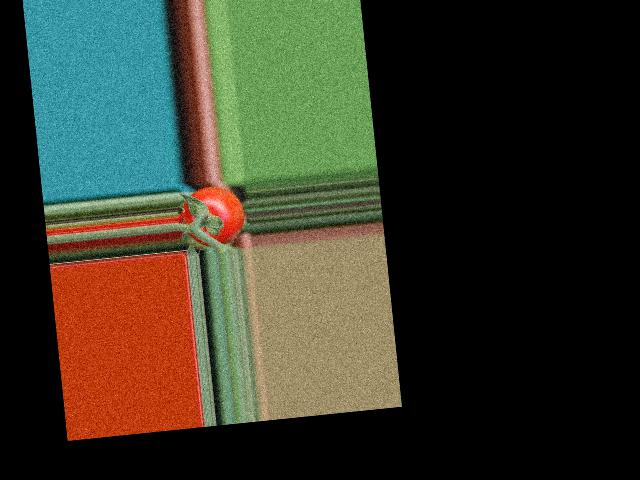tomato: (176, 183, 246, 249)
